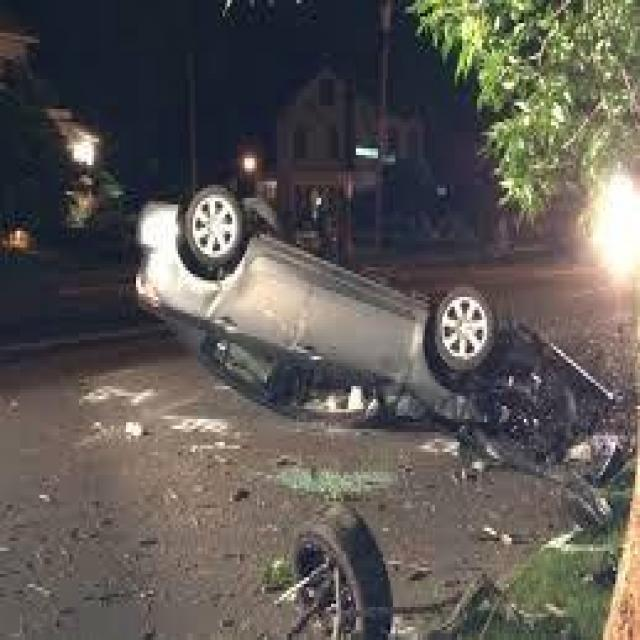single accident: (63, 31, 632, 478)
